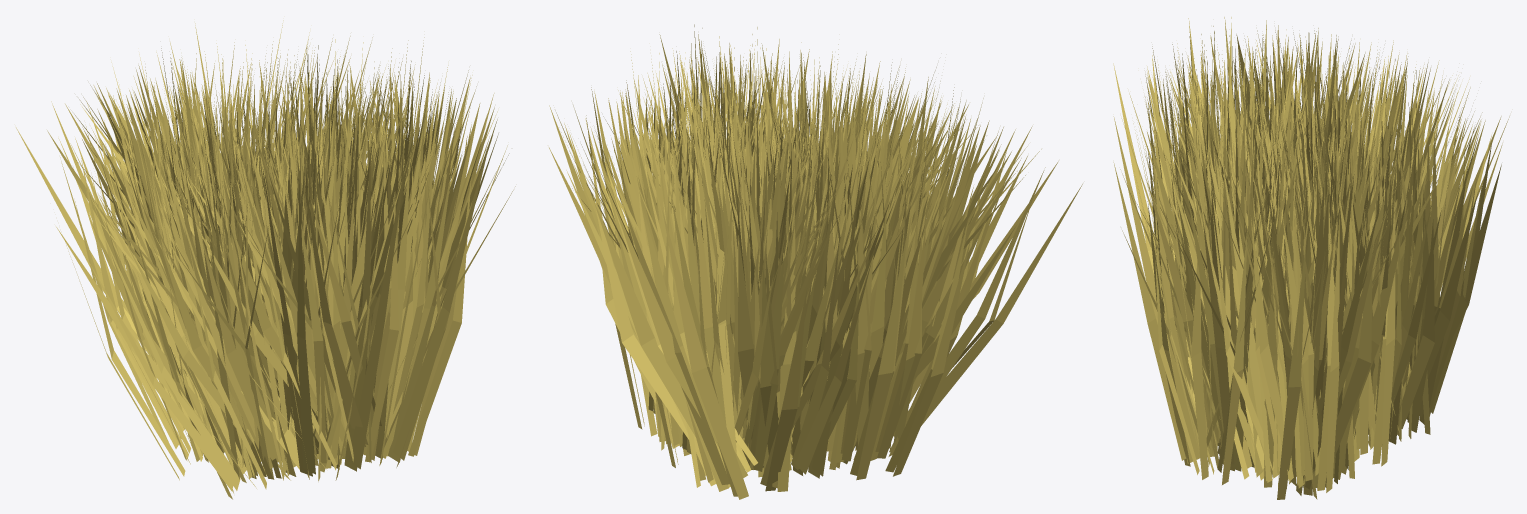
File: espigas_4.glb
The picture shows the model from 3 angles, left to right: view 1: azimuth 30°, elevation 25°; view 2: azimuth 150°, elevation 25°; view 3: azimuth 270°, elevation 25°; orthographic projection. The views are drawn at different scales.
Parts seen in each view (by area): view 1: espiga; view 2: espiga; view 3: espiga.
Boxes of the visible parts, x1=… form: espiga: x1=16, y1=20, x2=515, y2=499; espiga: x1=549, y1=24, x2=1082, y2=499; espiga: x1=1113, y1=17, x2=1509, y2=499.
Bounding box in the file's own units: 3.81 × 2.98 × 2.84.
